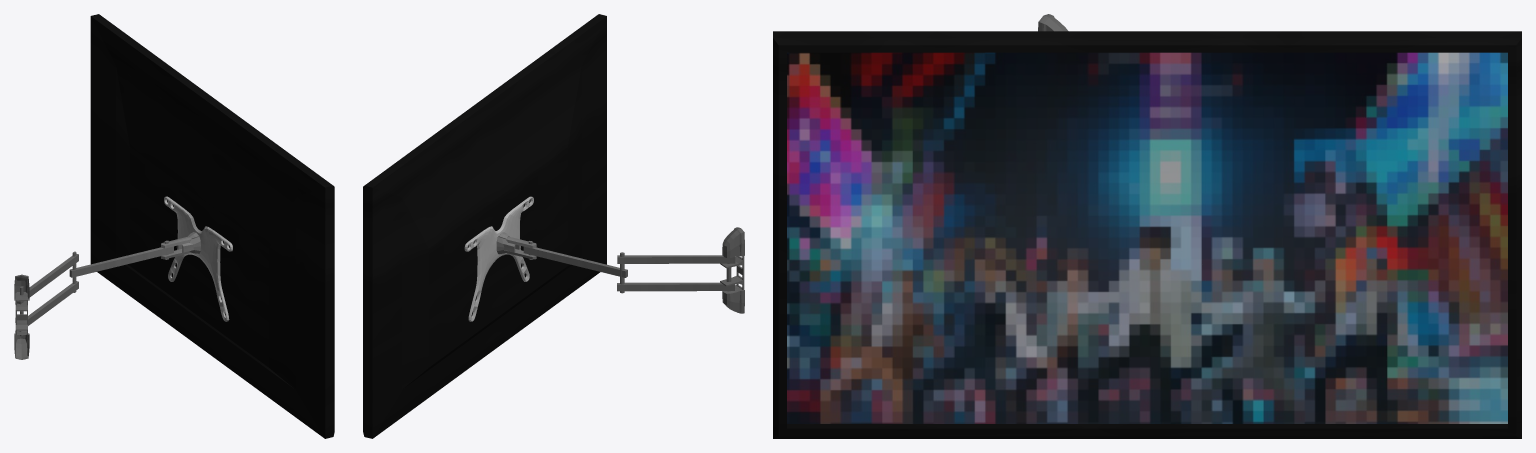
3 renders of one model, left to right at view 1: azimuth 30°, elevation 25°; view 2: azimuth 150°, elevation 25°; view 3: azimuth 270°, elevation 25°, orthographic. The views are drawn at different scales.
Visible parts, largest first — view 1: Tv; view 2: Tv; view 3: Tv.
Part boxes in pixels (x1,y1,x2,y2): Tv: (14, 14, 334, 438); Tv: (363, 14, 744, 438); Tv: (773, 14, 1521, 438).
Size of the model in its own units: 3.88 by 3.95 by 6.69.
Materials: 2 (2 with a texture image).
